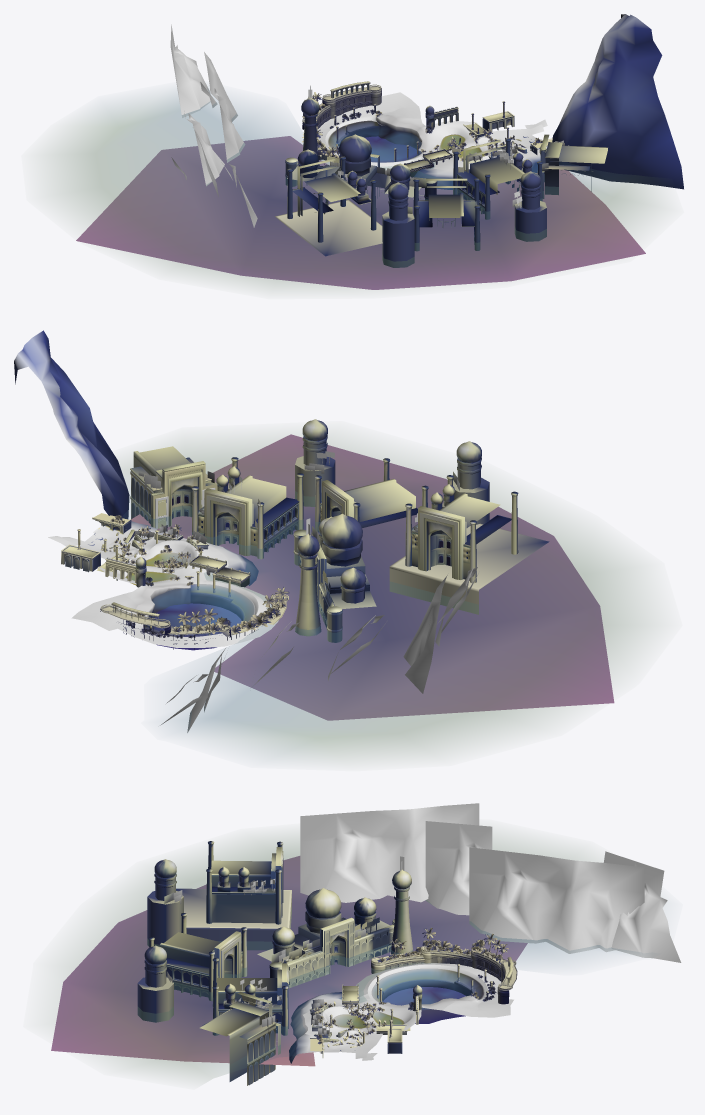
The model's file is 04Oasis.gltf.
The picture shows the model from 3 angles, top to bottom: view 1: azimuth 30°, elevation 25°; view 2: azimuth 150°, elevation 25°; view 3: azimuth 270°, elevation 25°; orthographic projection. The views are drawn at different scales.
Visible parts, largest first — view 1: stg013_w26_Mesh_0000, stg013_o28_Mesh_0005, stg013_o32_Mesh_0000, stg013_o10_Mesh_0004, stg013_p11_Mesh_0004, stg013_o28_Mesh_0002, stg013_o26_Mesh_0026, stg013_o10_Mesh_0008, stg013_o25_Mesh_0000, stg013_o10_Mesh_0029, stg013_o10_Mesh_0012, stg013_a28_Mesh_0004 (+6 smaller); view 2: stg013_w26_Mesh_0000, stg013_o28_Mesh_0005, stg013_o10_Mesh_0004, stg013_o28_Mesh_0002, stg013_o32_Mesh_0000, stg013_o10_Mesh_0008, stg013_o26_Mesh_0026, stg013_p11_Mesh_0004, stg013_o25_Mesh_0000, stg013_o10_Mesh_0016, stg013_o10_Mesh_0012, stg013_o10_Mesh_0029 (+9 smaller); view 3: stg013_w26_Mesh_0000, stg013_p11_Mesh_0004, stg013_o28_Mesh_0005, stg013_o10_Mesh_0004, stg013_o28_Mesh_0002, stg013_o10_Mesh_0008, stg013_o10_Mesh_0012, stg013_o26_Mesh_0026, stg013_o10_Mesh_0029, stg013_o10_Mesh_0016, stg013_o25_Mesh_0000, stg013_o11_Mesh_0013 (+10 smaller).
Part boxes in pixels (x1,y1,x2,y2): stg013_w26_Mesh_0000: [49, 92, 657, 288]; stg013_o28_Mesh_0005: [76, 121, 645, 289]; stg013_o32_Mesh_0000: [552, 14, 683, 189]; stg013_o10_Mesh_0004: [275, 81, 607, 256]; stg013_p11_Mesh_0004: [170, 24, 257, 227]; stg013_o28_Mesh_0002: [317, 92, 547, 170]; stg013_o26_Mesh_0026: [278, 86, 590, 254]; stg013_o10_Mesh_0008: [288, 85, 546, 267]; stg013_o25_Mesh_0000: [285, 101, 542, 251]; stg013_o10_Mesh_0029: [297, 97, 540, 199]; stg013_o10_Mesh_0012: [298, 92, 546, 216]; stg013_a28_Mesh_0004: [376, 114, 540, 189]; stg013_w26_Mesh_0000: [121, 438, 649, 758]; stg013_o28_Mesh_0005: [126, 434, 614, 720]; stg013_o10_Mesh_0004: [61, 436, 549, 649]; stg013_o28_Mesh_0002: [48, 525, 278, 647]; stg013_o32_Mesh_0000: [14, 330, 129, 519]; stg013_o10_Mesh_0008: [78, 461, 517, 635]; stg013_o26_Mesh_0026: [94, 456, 545, 636]; stg013_p11_Mesh_0004: [160, 567, 479, 732]; stg013_o25_Mesh_0000: [78, 469, 518, 642]; stg013_o10_Mesh_0016: [61, 471, 459, 637]; stg013_o10_Mesh_0012: [65, 436, 481, 626]; stg013_o10_Mesh_0029: [93, 419, 481, 589]; stg013_w26_Mesh_0000: [59, 835, 632, 1079]; stg013_p11_Mesh_0004: [300, 803, 681, 962]; stg013_o28_Mesh_0005: [51, 856, 527, 1066]; stg013_o10_Mesh_0004: [137, 841, 517, 1085]; stg013_o28_Mesh_0002: [303, 963, 513, 1060]; stg013_o10_Mesh_0008: [137, 845, 512, 1053]; stg013_o10_Mesh_0012: [144, 847, 508, 1053]; stg013_o26_Mesh_0026: [137, 889, 516, 1051]; stg013_o10_Mesh_0029: [144, 859, 422, 1036]; stg013_o10_Mesh_0016: [220, 854, 509, 1065]; stg013_o25_Mesh_0000: [149, 850, 492, 1047]; stg013_o11_Mesh_0013: [212, 894, 275, 923].
Bounding box in the file's own units: 907 × 240 × 912.
